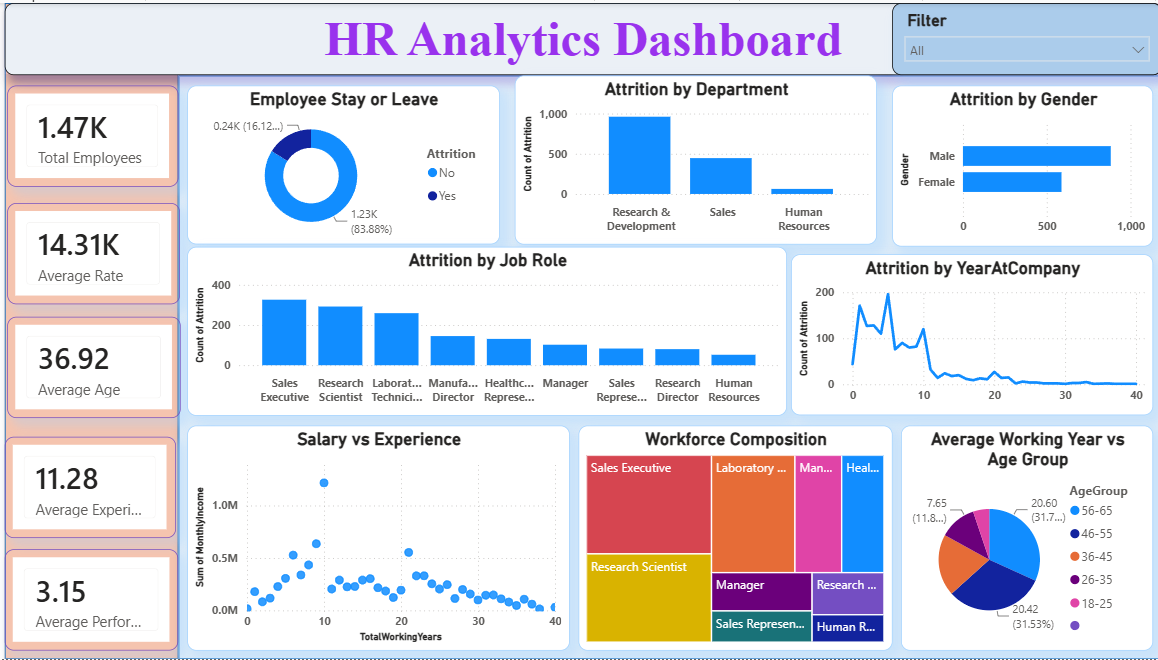

Layout of this report page (visuals, bound fields, positions):
{"tool":"powerbi","page":{"name":"Page 1","canvas":[1280,720],"ordinal":0},"visuals":[{"type":"shape","box":[9.6,0,190.7,720.4],"z":0},{"type":"shape","box":[10,0,1270,78.6],"z":1000},{"type":"shape","box":[200.3,79.6,1079.9,640.8],"z":2000},{"type":"textbox","box":[9.6,0,1270.7,79.6],"z":3000},{"type":"cardVisual","fields":{"Data":["CountNonNull(HR_Analytics_Cleaned.Age)"]},"box":[12.3,90.6,188,111.1],"z":4000},{"type":"cardVisual","fields":{"Data":["Avg(HR_Analytics_Cleaned.MonthlyRate)"]},"box":[12.3,219.6,189.4,111.1],"z":5000},{"type":"cardVisual","fields":{"Data":["Avg(HR_Analytics_Cleaned.Age)"]},"box":[12.3,344.4,190.7,111.1],"z":6000},{"type":"cardVisual","fields":{"Data":["Avg(HR_Analytics_Cleaned.TotalWorkingYears)"]},"box":[9.6,476.2,188,111.1],"z":7000},{"type":"cardVisual","fields":{"Data":["Avg(HR_Analytics_Cleaned.PerformanceRating)"]},"box":[9.6,599.7,190.7,111.1],"z":8000},{"type":"slicer","fields":{"Values":["HR_Analytics_Cleaned.Attrition","HR_Analytics_Cleaned.Gender","HR_Analytics_Cleaned.Department","HR_Analytics_Cleaned.JobRole","HR_Analytics_Cleaned.EducationField","HR_Analytics_Cleaned.OverTime","HR_Analytics_Cleaned.MaritalStatus"]},"box":[983.9,0,296.4,79.6],"z":9000},{"type":"donutChart","title":"Employee Stay or Leave","fields":{"Category":["HR_Analytics_Cleaned.Attrition"],"Y":["CountNonNull(HR_Analytics_Cleaned.Attrition)"]},"box":[209.9,90.6,343.1,174.3],"z":10000},{"type":"columnChart","title":"Attrition by Department","fields":{"Y":["CountNonNull(HR_Analytics_Cleaned.Attrition)"],"Category":["HR_Analytics_Cleaned.Department"]},"box":[569.5,79.6,397.9,185.2],"z":11000},{"type":"columnChart","title":"Attrition by Job Role","fields":{"Y":["CountNonNull(HR_Analytics_Cleaned.Attrition)"],"Category":["HR_Analytics_Cleaned.JobRole"]},"box":[209.9,267.6,658.7,185.2],"z":12000},{"type":"barChart","title":"Attrition by Gender","fields":{"Y":["CountNonNull(HR_Analytics_Cleaned.Attrition)"],"Category":["HR_Analytics_Cleaned.Gender"]},"box":[983.9,90.6,286.8,177],"z":13000},{"type":"lineChart","title":"Attrition by YearAtCompany","fields":{"Category":["HR_Analytics_Cleaned.YearsAtCompany"],"Y":["CountNonNull(HR_Analytics_Cleaned.Attrition)"]},"box":[872.7,275.8,397.9,177],"z":14000},{"type":"scatterChart","title":"Salary vs Experience","fields":{"X":["HR_Analytics_Cleaned.TotalWorkingYears"],"Y":["Sum(HR_Analytics_Cleaned.MonthlyIncome)"]},"box":[209.9,463.8,419.9,247],"z":15000},{"type":"treemap","title":"Workforce Composition","fields":{"Values":["CountNonNull(HR_Analytics_Cleaned.Department)"],"Details":["HR_Analytics_Cleaned.JobRole"]},"box":[639.5,463.8,344.4,247],"z":16000},{"type":"pieChart","title":"Average Working Year vs Age Group","fields":{"Category":["HR_Analytics_Cleaned.AgeGroup"],"Y":["Avg(HR_Analytics_Cleaned.TotalWorkingYears)"]},"box":[993.5,463.8,277.2,247],"z":17000}]}

Visuals, with their boxes in screenshot pixels (x1, y1, x2, y2), scaled from the page's 1280x720 canvas onto the 1158x660 screenshot:
shape: (x1=9, y1=0, x2=181, y2=659)
shape: (x1=9, y1=0, x2=1157, y2=72)
shape: (x1=181, y1=73, x2=1157, y2=659)
textbox: (x1=9, y1=0, x2=1157, y2=73)
cardVisual - CountNonNull(HR_Analytics_Cleaned.Age): (x1=11, y1=83, x2=181, y2=185)
cardVisual - Avg(HR_Analytics_Cleaned.MonthlyRate): (x1=11, y1=201, x2=182, y2=303)
cardVisual - Avg(HR_Analytics_Cleaned.Age): (x1=11, y1=316, x2=184, y2=418)
cardVisual - Avg(HR_Analytics_Cleaned.TotalWorkingYears): (x1=9, y1=437, x2=179, y2=538)
cardVisual - Avg(HR_Analytics_Cleaned.PerformanceRating): (x1=9, y1=550, x2=181, y2=652)
slicer - HR_Analytics_Cleaned.Attrition x HR_Analytics_Cleaned.Gender: (x1=890, y1=0, x2=1157, y2=73)
"Employee Stay or Leave" donutChart: (x1=190, y1=83, x2=500, y2=243)
"Attrition by Department" columnChart: (x1=515, y1=73, x2=875, y2=243)
"Attrition by Job Role" columnChart: (x1=190, y1=245, x2=786, y2=415)
"Attrition by Gender" barChart: (x1=890, y1=83, x2=1150, y2=245)
"Attrition by YearAtCompany" lineChart: (x1=790, y1=253, x2=1149, y2=415)
"Salary vs Experience" scatterChart: (x1=190, y1=425, x2=570, y2=652)
"Workforce Composition" treemap: (x1=579, y1=425, x2=890, y2=652)
"Average Working Year vs Age Group" pieChart: (x1=899, y1=425, x2=1150, y2=652)
